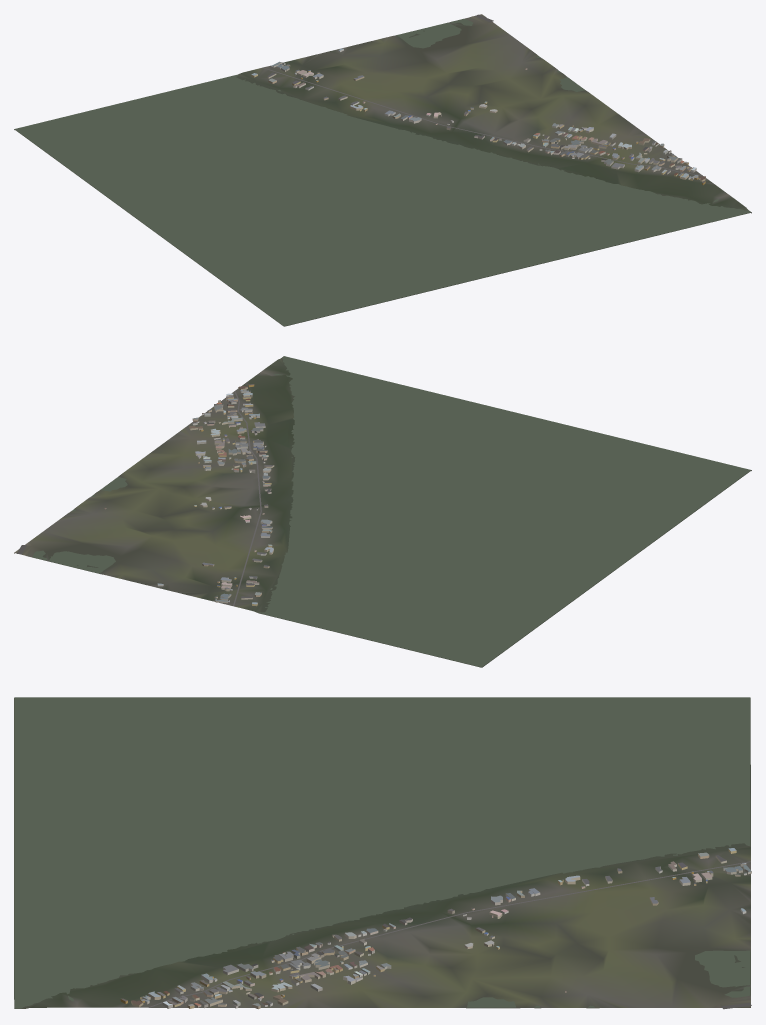
3 views of the same model, one above another, from view 1: azimuth 30°, elevation 25°; view 2: azimuth 150°, elevation 25°; view 3: azimuth 270°, elevation 25° (orthographic). The views are drawn at different scales.
Visible parts, largest first — view 1: water, ground, buildings, roads; view 2: water, ground, buildings; view 3: water, ground, buildings, roads.
Boxes of the visible parts, bbox=[...] form: water: bbox=[15, 18, 750, 326]; ground: bbox=[14, 14, 751, 326]; buildings: bbox=[251, 48, 705, 184]; roads: bbox=[262, 14, 702, 175]; water: bbox=[28, 356, 750, 667]; ground: bbox=[14, 356, 751, 667]; buildings: bbox=[104, 384, 274, 606]; water: bbox=[14, 697, 750, 1008]; ground: bbox=[14, 697, 750, 1008]; buildings: bbox=[120, 848, 751, 1009]; roads: bbox=[148, 861, 751, 1009].
Size of the model in its own units: 1408 by 12.89 by 1403.
